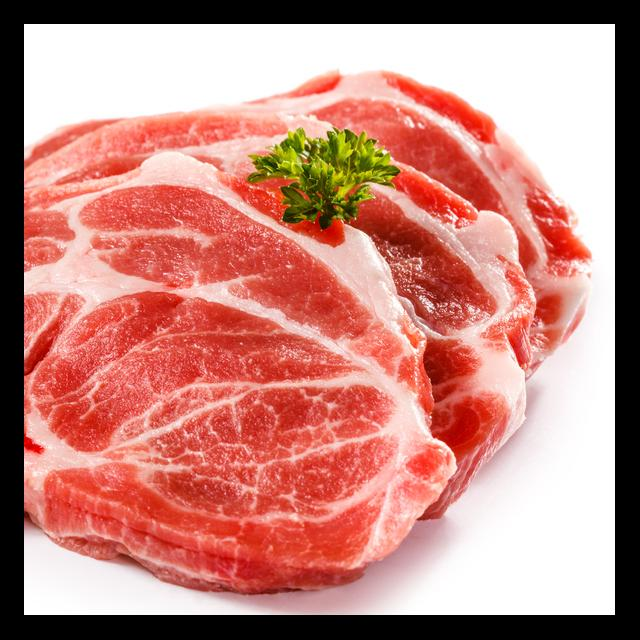beef: (24, 70, 595, 595)
